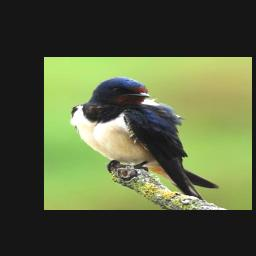Swallow: (69, 76, 221, 202)
